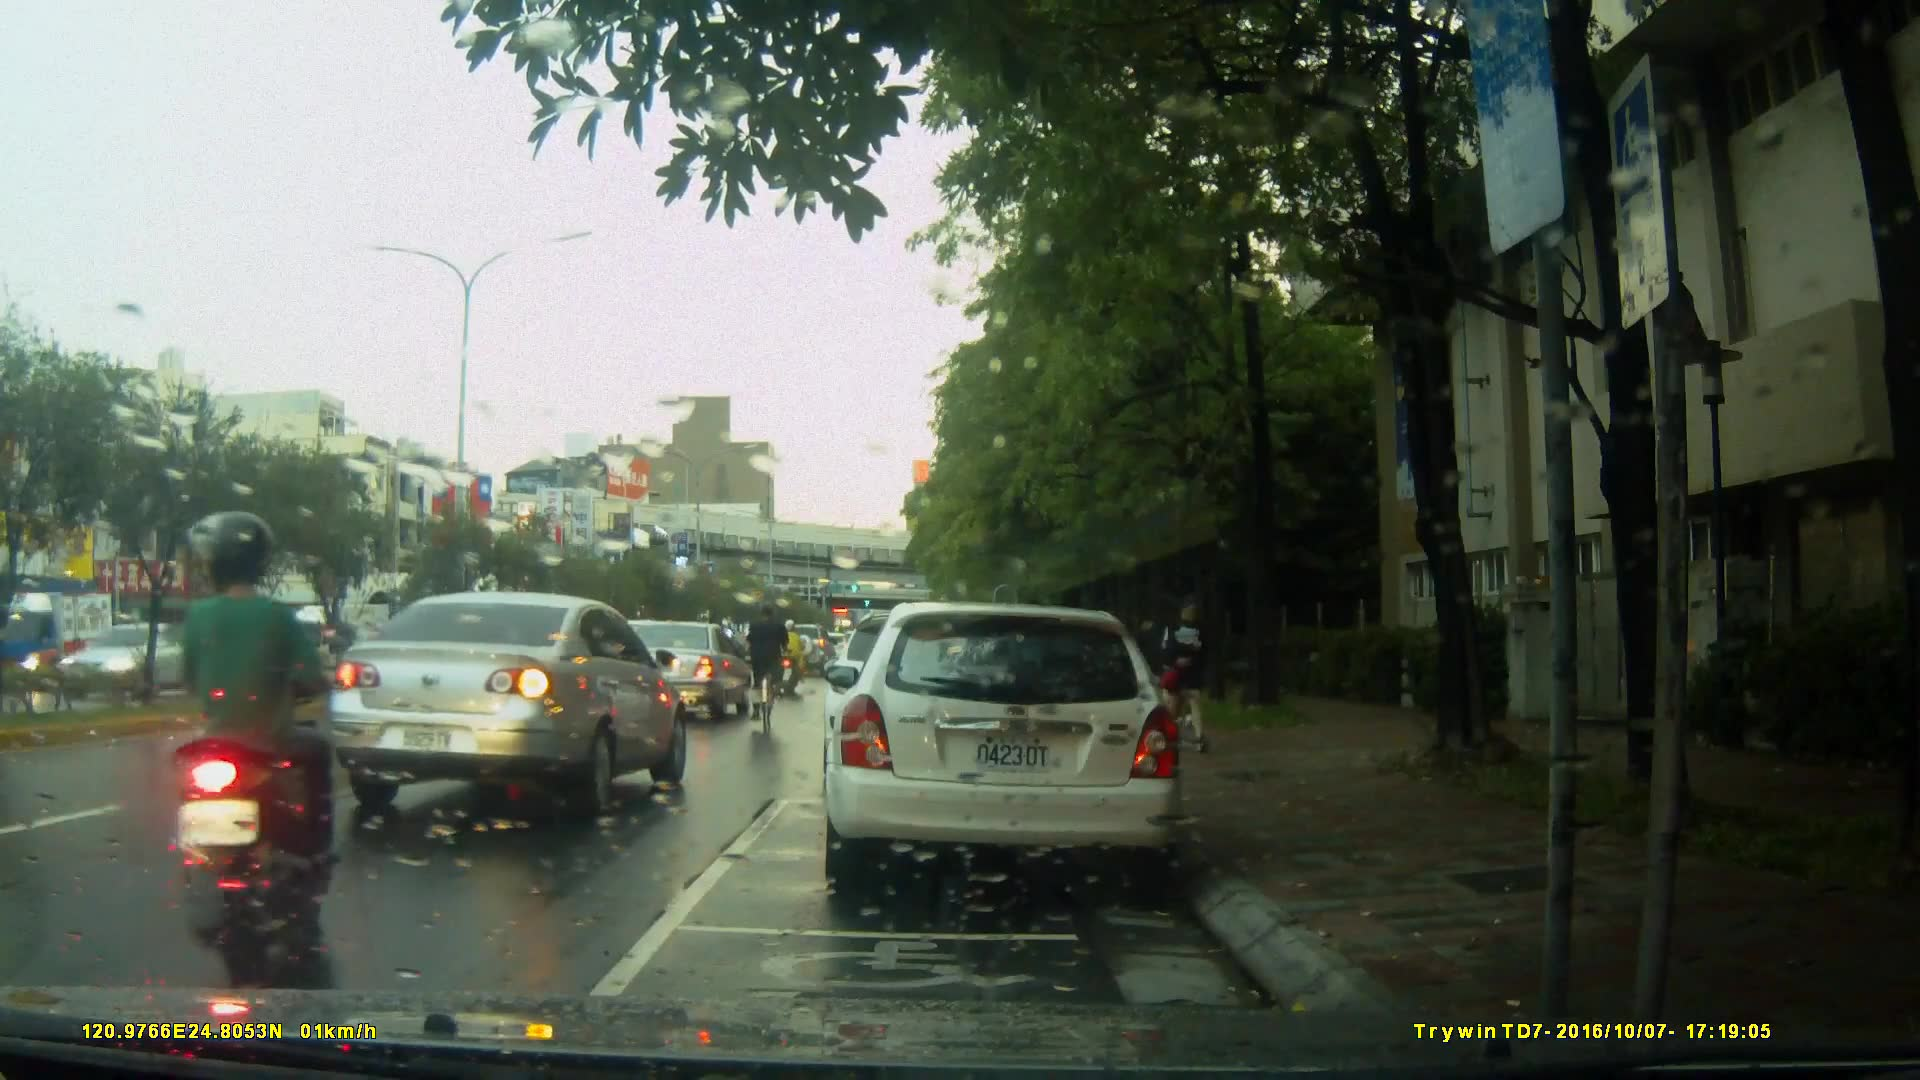pedestrian: (1159, 599, 1212, 736), (1152, 601, 1202, 733)
rider: (175, 512, 323, 982), (744, 603, 792, 750), (779, 615, 810, 698)
vehicle: (820, 602, 1188, 898), (326, 590, 693, 822), (598, 621, 754, 725), (1, 587, 129, 699), (52, 622, 211, 691)
